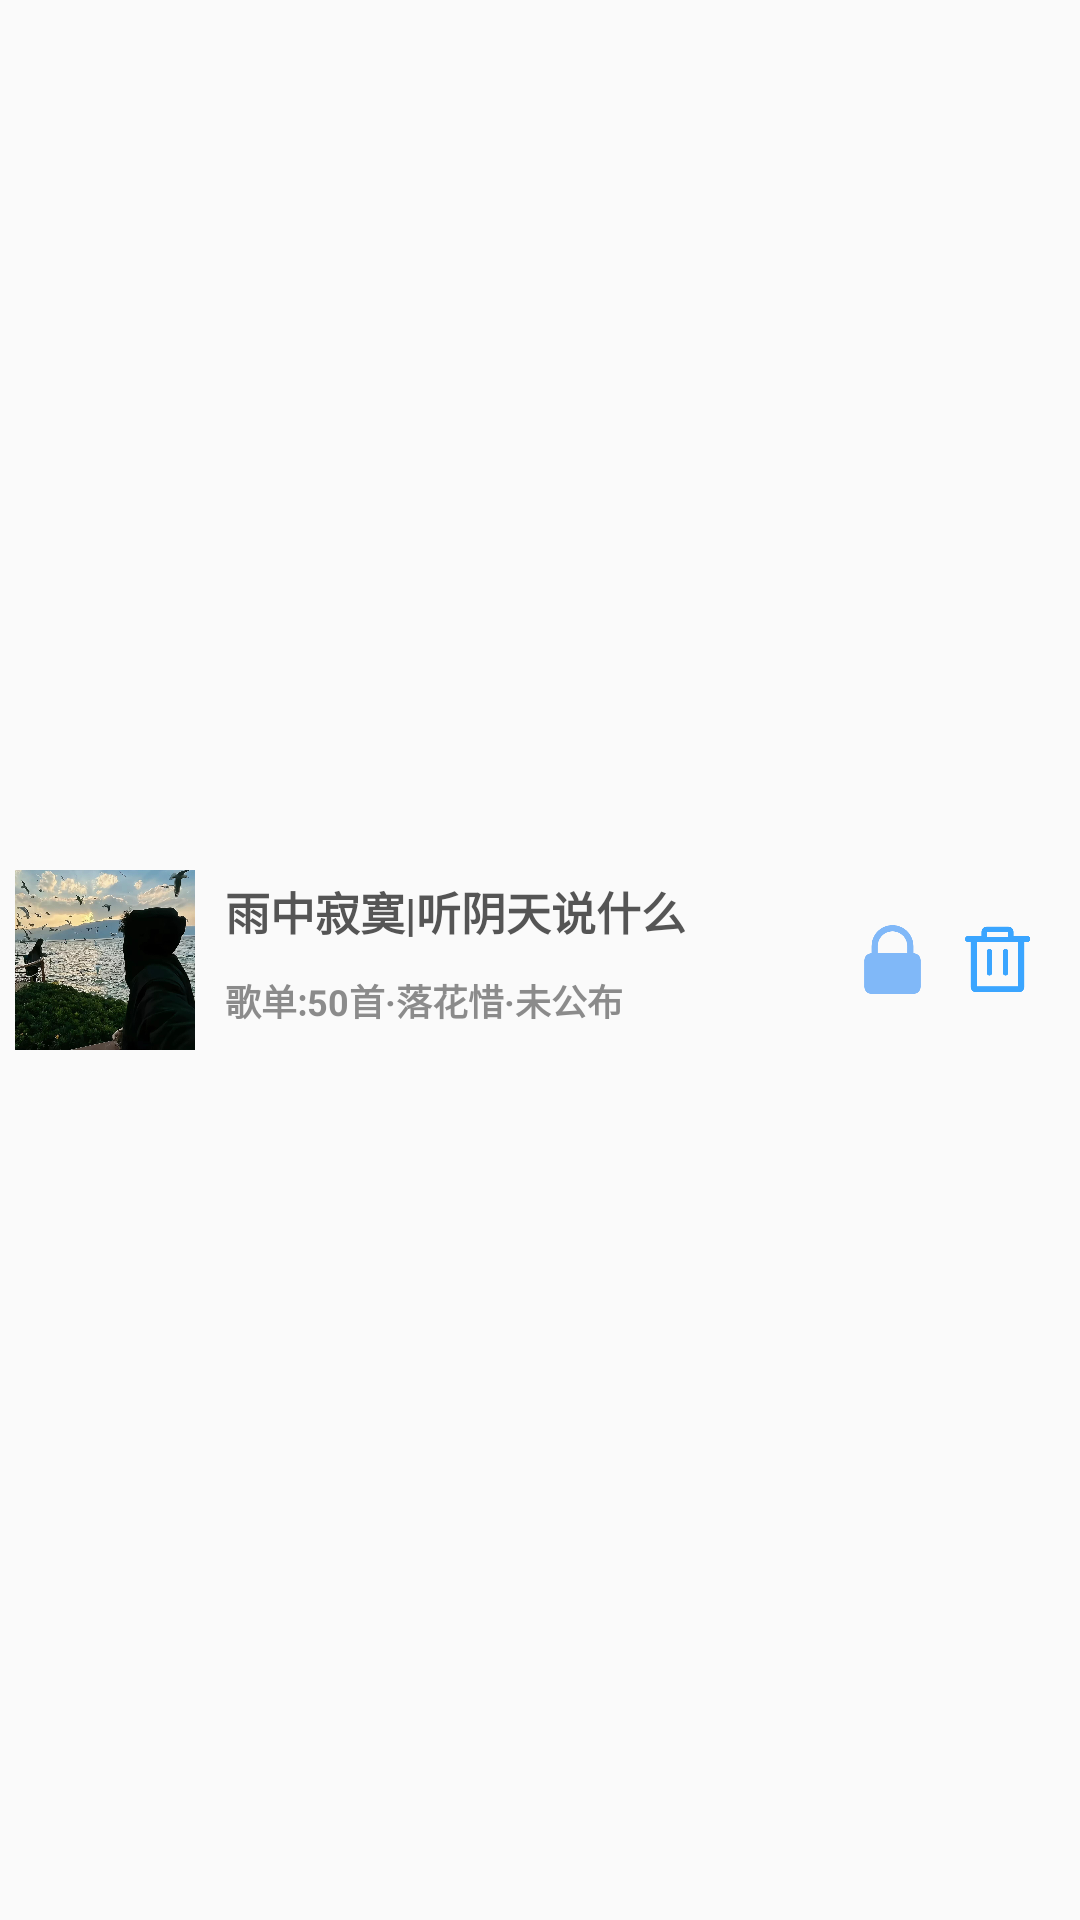

Locate icon controls on the screen. Image size 1080w x 1920h, boxes as (x1, y1, x2, y2).
del music: (965, 926, 1030, 992)
no open: (864, 925, 921, 994)
user tx: (15, 870, 195, 1050)
